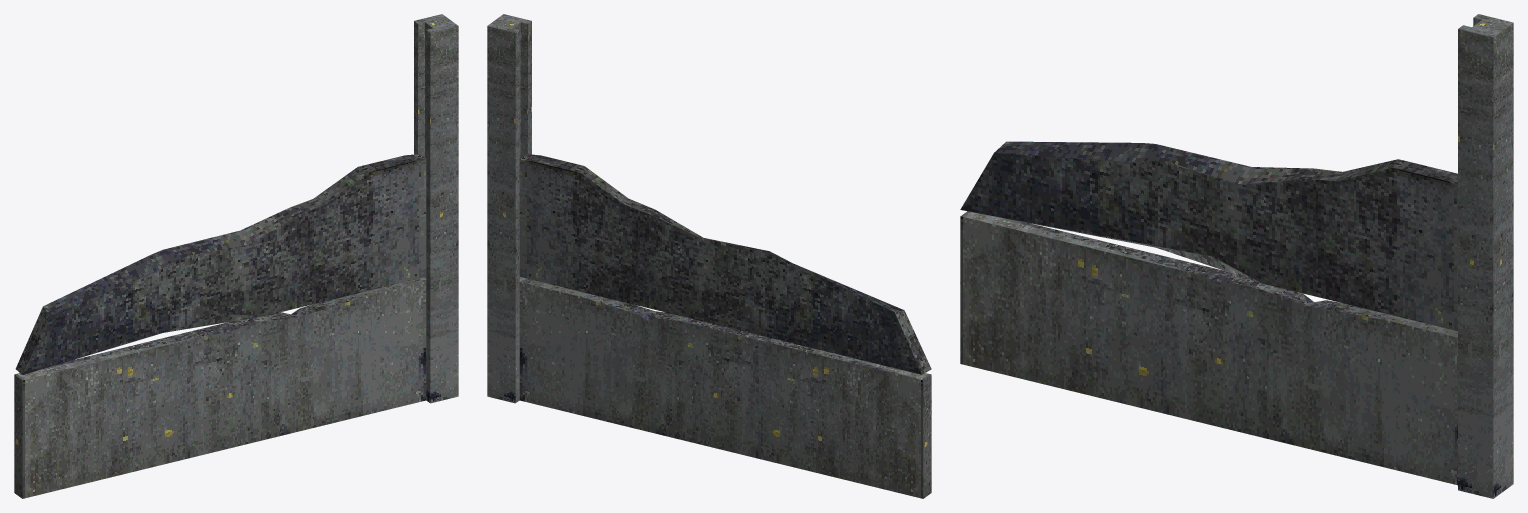
The model's file is plackard_broken.glb.
The picture shows the model from 3 angles, left to right: view 1: azimuth 30°, elevation 25°; view 2: azimuth 150°, elevation 25°; view 3: azimuth 330°, elevation 25°; orthographic projection. The views are drawn at different scales.
Parts seen in each view (by area): view 1: plackard_broken; view 2: plackard_broken; view 3: plackard_broken.
Boxes of the visible parts, <box> form: plackard_broken: <box>14,14,458,498</box>; plackard_broken: <box>487,14,931,498</box>; plackard_broken: <box>960,14,1513,498</box>.
Size of the model in its own units: 3.05 by 2.5 by 0.2.
1 material, 1 textured.
